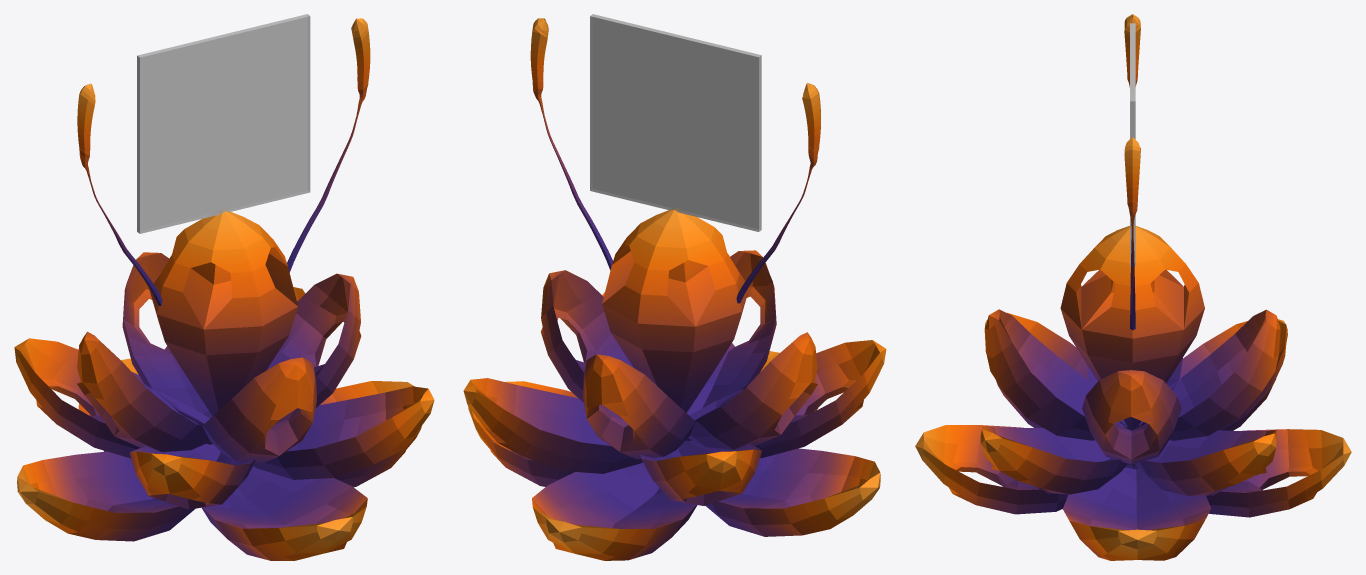
Rendered from MOD_WarmthPlant.fbx.
3 views of the same model, side by side, from view 1: azimuth 30°, elevation 25°; view 2: azimuth 150°, elevation 25°; view 3: azimuth 270°, elevation 25° (orthographic). The views are drawn at different scales.
Parts seen in each view (by area): view 1: bezier2, polySurface15; view 2: bezier2, polySurface15; view 3: bezier2, polySurface15.
Part boxes in pixels (bbox=[...]): bezier2: bbox=[14, 18, 434, 560]; polySurface15: bbox=[137, 14, 310, 233]; bezier2: bbox=[463, 18, 886, 560]; polySurface15: bbox=[590, 14, 761, 231]; bezier2: bbox=[915, 14, 1351, 560]; polySurface15: bbox=[1130, 23, 1135, 266].
Size of the model in its own units: 3.76 by 4.17 by 3.71.
